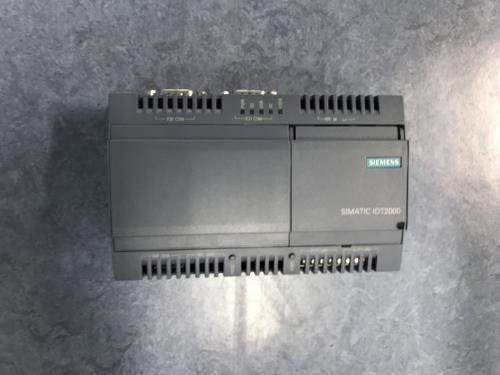device: (107, 89, 411, 280)
